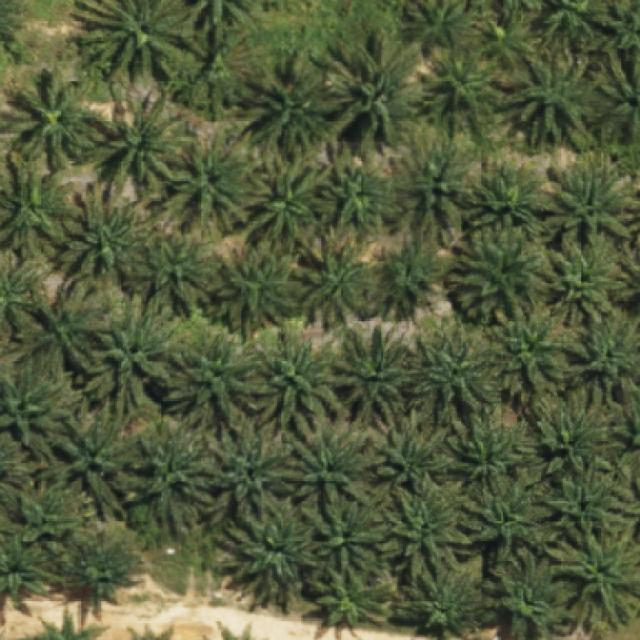Kelapa_Sawit: (234, 48, 352, 164), (164, 326, 282, 434), (91, 79, 195, 198), (323, 31, 423, 154), (124, 419, 216, 538), (1, 64, 102, 171), (49, 395, 134, 520), (246, 334, 345, 441), (201, 422, 296, 533), (445, 231, 553, 326), (82, 308, 178, 414), (277, 416, 378, 516), (218, 511, 320, 607), (12, 278, 110, 377), (415, 39, 511, 139), (412, 326, 506, 428), (61, 186, 156, 286), (215, 241, 310, 341), (383, 472, 472, 577), (331, 322, 415, 433), (169, 135, 266, 231), (512, 48, 602, 150), (547, 528, 640, 626), (242, 150, 333, 248), (445, 413, 537, 505), (488, 302, 574, 400), (528, 395, 628, 477), (547, 231, 631, 326), (552, 152, 640, 240), (298, 238, 382, 330), (397, 140, 478, 235), (367, 415, 456, 500), (142, 229, 224, 320), (461, 486, 556, 562), (375, 229, 450, 322), (52, 532, 142, 608), (541, 462, 625, 542), (468, 160, 552, 234), (310, 497, 388, 574), (323, 156, 397, 236), (312, 564, 400, 631), (404, 567, 484, 640), (12, 485, 73, 552)
